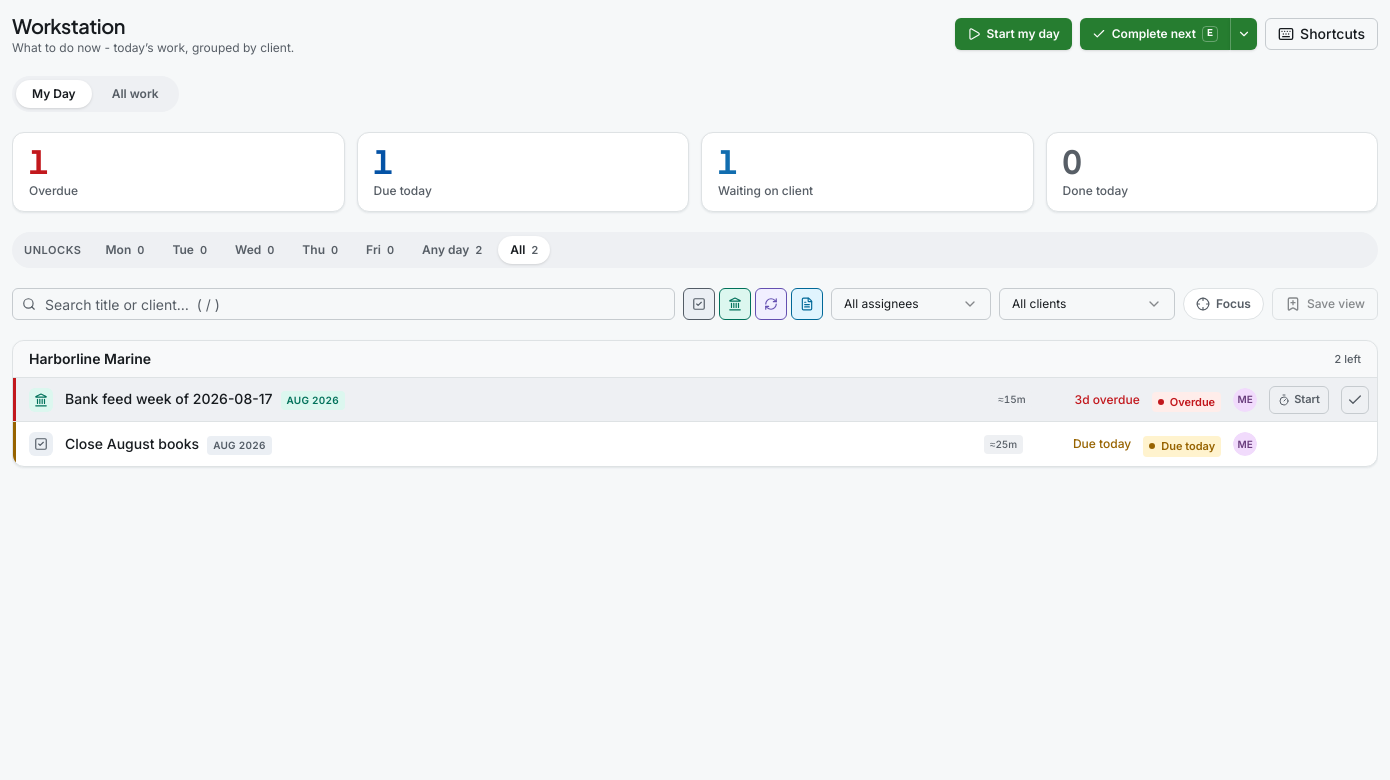
it: WorkstationQueue - full queue › renders bucket tabs and stat chips with counts
The image size is (1390, 780).
Click the tab with test id "view-tab-queue".
click(135, 94)  # box [96, 80, 175, 108]
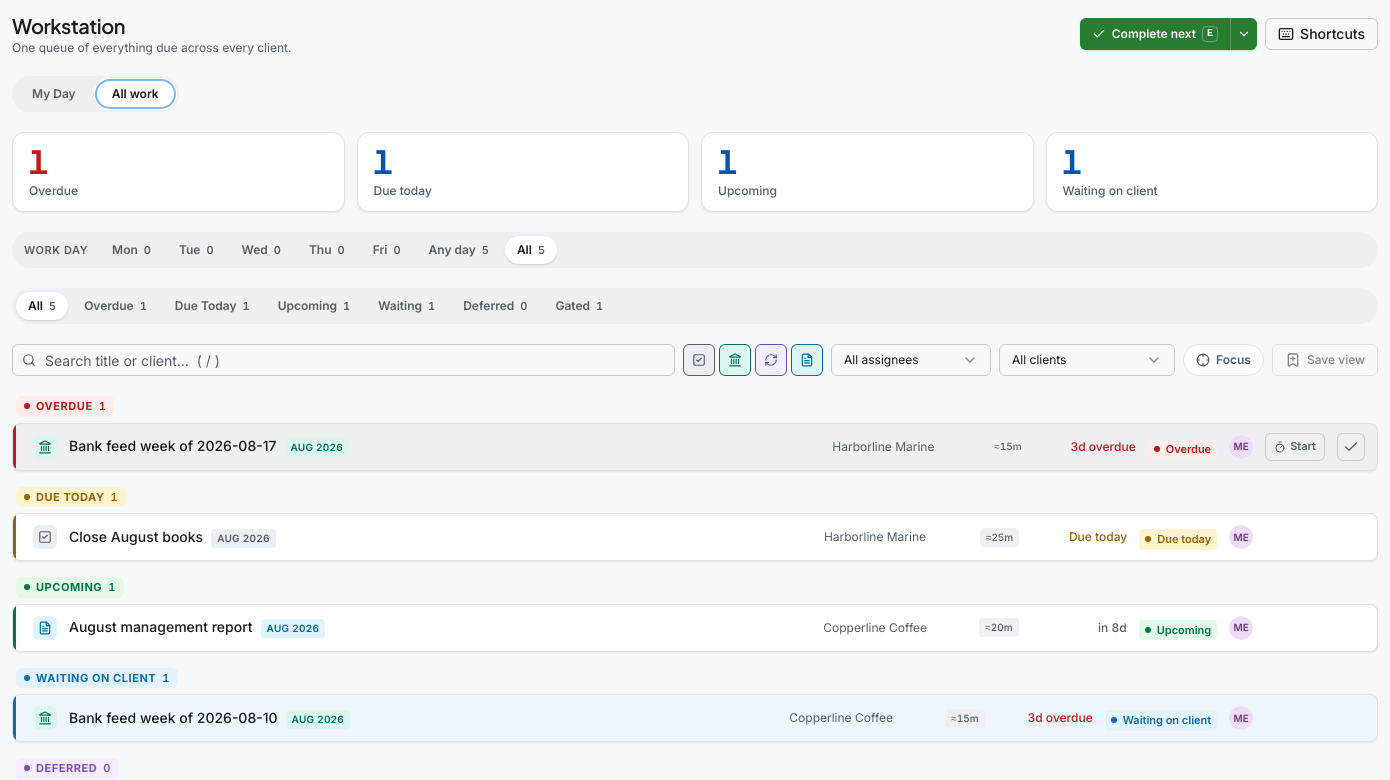
Expected: the tab "Overdue1" is shown, [72, 292, 159, 320]
Expected: the tab "Due Today1" is shown, [163, 292, 262, 320]
Expected: the tab "Waiting1" is shown, [366, 292, 447, 320]
